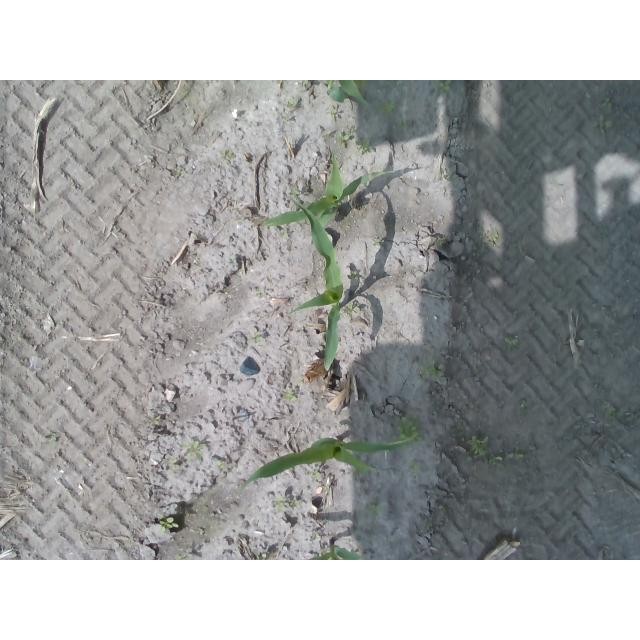Maize: (262, 155, 423, 234), (241, 433, 417, 495), (287, 193, 346, 375), (306, 537, 366, 560), (325, 80, 371, 108)
Weeds: (167, 442, 206, 471), (338, 126, 374, 154), (593, 95, 616, 133), (399, 417, 423, 444), (491, 449, 528, 465), (467, 434, 489, 459), (271, 497, 305, 511), (424, 360, 443, 380), (378, 99, 396, 114), (343, 303, 361, 318), (160, 517, 179, 531), (436, 80, 454, 93), (328, 106, 344, 120), (367, 503, 385, 513), (503, 337, 521, 346), (608, 407, 624, 417), (220, 152, 236, 161), (520, 401, 529, 416), (215, 459, 225, 472), (409, 463, 419, 474), (289, 187, 300, 197), (399, 120, 409, 130), (315, 468, 322, 481), (489, 232, 499, 241), (287, 392, 297, 401), (372, 239, 382, 247), (175, 553, 186, 560), (351, 272, 360, 280), (255, 334, 264, 342)
